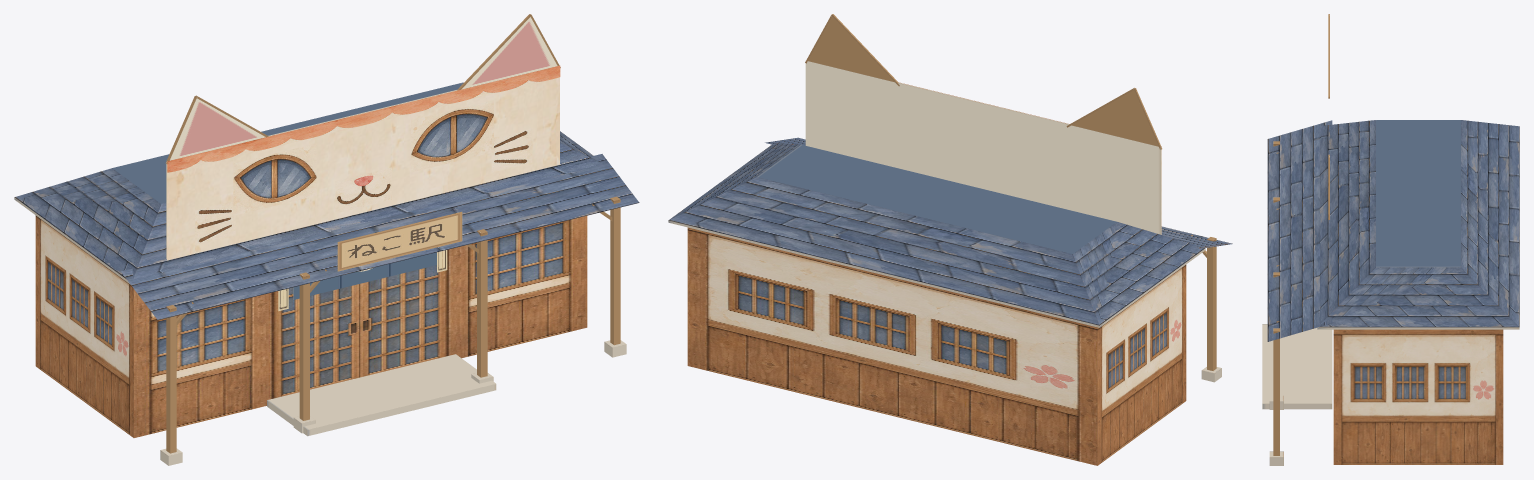
File: nyanisyarud-city-station.glb
The picture shows the model from 3 angles, left to right: view 1: azimuth 30°, elevation 25°; view 2: azimuth 150°, elevation 25°; view 3: azimuth 270°, elevation 25°; orthographic projection. The views are drawn at different scales.
Parts seen in each view (by area): view 1: Neko_Station_Eye_Windows_Rich; view 2: Neko_Station_Eye_Windows_Rich; view 3: Neko_Station_Eye_Windows_Rich.
Part boxes in pixels (box(x1,y1,x2,y2)): Neko_Station_Eye_Windows_Rich: box(14, 14, 639, 465); Neko_Station_Eye_Windows_Rich: box(668, 14, 1232, 465); Neko_Station_Eye_Windows_Rich: box(1262, 14, 1519, 465).
Size of the model in its own units: 5.1 by 3.34 by 2.74.
Materials: 1 (1 with a texture image).
